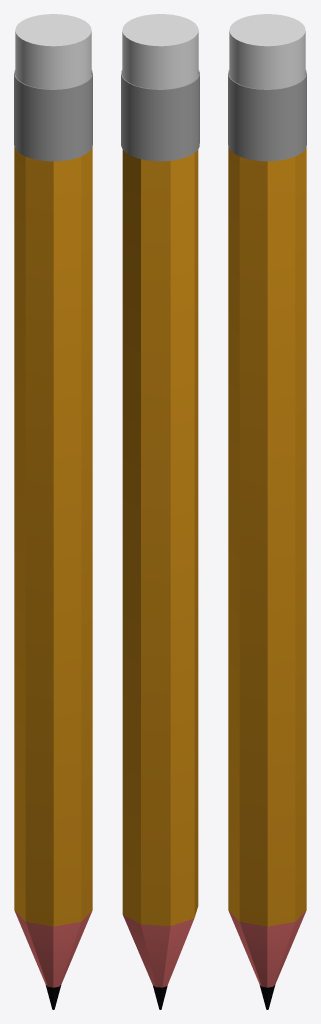
The model's file is pencil2.glb.
The picture shows the model from 3 angles, left to right: view 1: azimuth 90°, elevation 25°; view 2: azimuth 150°, elevation 25°; view 3: azimuth 270°, elevation 25°; orthographic projection.
Parts seen in each view (by area): view 1: Cylinder.002; view 2: Cylinder.002; view 3: Cylinder.002.
Boxes of the visible parts, bbox=[...] form: Cylinder.002: bbox=[14, 14, 92, 1009]; Cylinder.002: bbox=[121, 14, 199, 1009]; Cylinder.002: bbox=[228, 14, 306, 1009].
Size of the model in its own units: 0.2074 by 2.84 by 0.2074.
